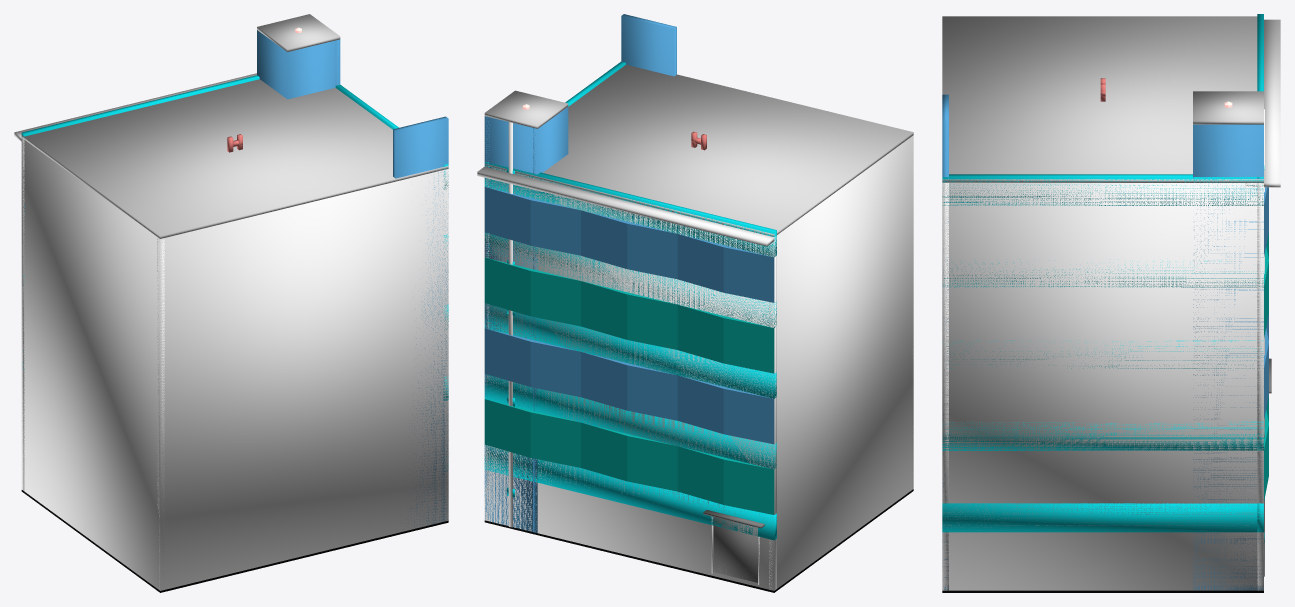
Rendered from Building_2_8.glb.
3 views of the same model, side by side, from view 1: azimuth 30°, elevation 25°; view 2: azimuth 150°, elevation 25°; view 3: azimuth 270°, elevation 25° (orthographic). The views are drawn at different scales.
Visible parts, largest first — view 1: Main_Walls.Back, Main_Walls.Left, Main_Walls.Roof, Tower.Back, Tower.Front, Tower.Roof, Ribbon_Windows.F4.Front, Main_Walls.Front, Main_Walls.Floor0, Main_Walls.Sunshade; view 2: Main_Walls.Left, Main_Walls.Roof, Main_Walls.Front, Tower.Front, Ribbon_Windows.F2.Front, Ribbon_Windows.F1.Front, Ribbon_Windows.F0.Front, Ribbon_Windows.F4.Front, Ribbon_Windows.F3.Front, Main_Walls.Sunshade, Tower.Back, Entrance.Door (+27 smaller); view 3: Main_Walls.Right, Main_Walls.Roof, Ribbon_Windows.F0.Side, Tower.Front, Ribbon_Windows.F1.Side, Ribbon_Windows.F4.Side, Main_Walls.Sunshade, Main_Walls.Back, Main_Walls.Front, Tower.Roof, Ribbon_Windows.F3.Side, Main_Walls.Floor0 (+3 smaller).
Boxes of the visible parts, <box> form: Main_Walls.Back: <box>157,169,448,590</box>; Main_Walls.Left: <box>21,139,164,590</box>; Main_Walls.Roof: <box>22,79,448,238</box>; Tower.Back: <box>393,116,448,525</box>; Tower.Front: <box>257,30,340,99</box>; Tower.Roof: <box>257,14,340,52</box>; Ribbon_Windows.F4.Front: <box>21,75,259,137</box>; Main_Walls.Front: <box>21,138,24,490</box>; Main_Walls.Floor0: <box>21,490,448,592</box>; Main_Walls.Sunshade: <box>14,73,256,141</box>; Main_Walls.Left: <box>769,135,913,590</box>; Main_Walls.Roof: <box>485,65,913,236</box>; Main_Walls.Front: <box>484,178,776,590</box>; Tower.Front: <box>484,107,568,532</box>; Ribbon_Windows.F2.Front: <box>484,304,776,398</box>; Ribbon_Windows.F1.Front: <box>484,375,776,469</box>; Ribbon_Windows.F0.Front: <box>484,445,776,540</box>; Ribbon_Windows.F4.Front: <box>484,162,776,257</box>; Ribbon_Windows.F3.Front: <box>485,232,776,327</box>; Main_Walls.Sunshade: <box>477,166,774,246</box>; Tower.Back: <box>621,14,676,76</box>; Entrance.Door: <box>713,517,757,582</box>; Main_Walls.Right: <box>942,183,1263,590</box>; Main_Walls.Roof: <box>942,16,1263,182</box>; Ribbon_Windows.F0.Side: <box>942,503,1263,532</box>; Tower.Front: <box>1193,124,1263,590</box>; Ribbon_Windows.F1.Side: <box>942,421,1263,450</box>; Ribbon_Windows.F4.Side: <box>942,174,1263,205</box>; Main_Walls.Sunshade: <box>1261,19,1280,187</box>; Main_Walls.Back: <box>942,183,948,590</box>; Main_Walls.Front: <box>1257,183,1263,590</box>; Tower.Roof: <box>1193,91,1263,124</box>; Ribbon_Windows.F3.Side: <box>942,259,1263,287</box>; Main_Walls.Floor0: <box>942,590,1263,592</box>.
Bounding box in the file's own units: 3 × 4.09 × 2.63.
